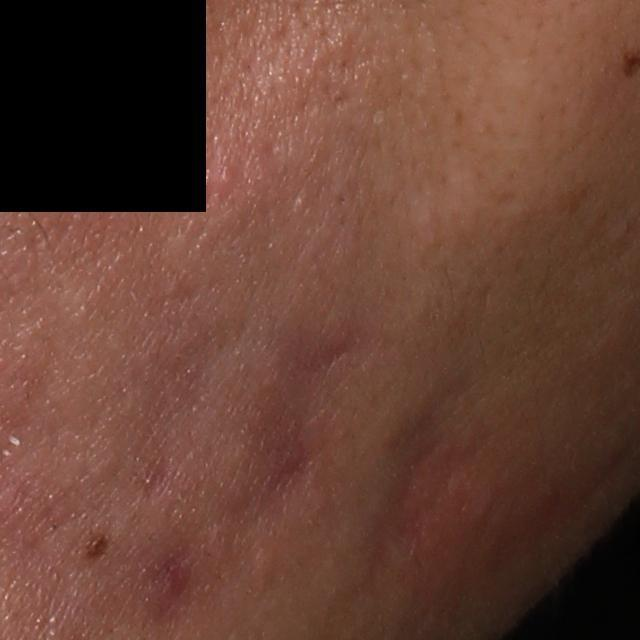atrophic_scar: (361, 378, 476, 588), (249, 327, 356, 510), (144, 530, 228, 616)
nevus: (79, 530, 111, 565)
